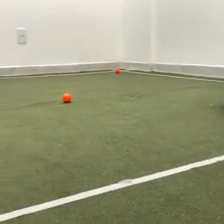ball: (60, 90, 72, 103), (113, 65, 122, 74)
